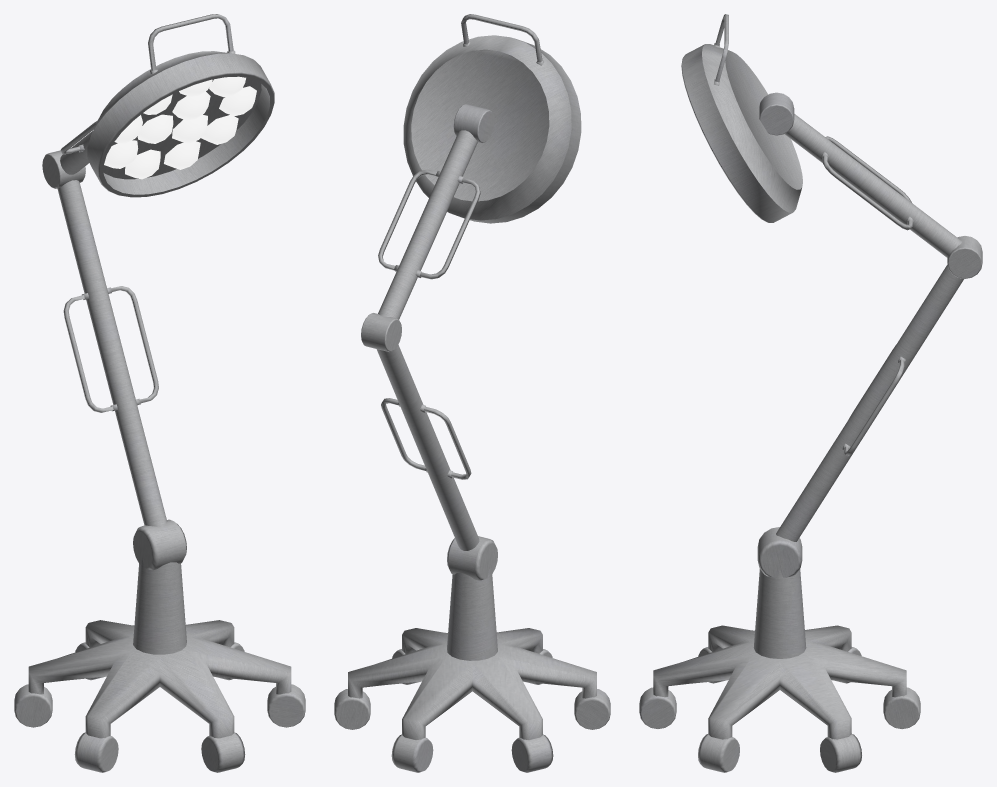
The model's file is EmissivePart.glb.
The picture shows the model from 3 angles, left to right: view 1: azimuth 30°, elevation 25°; view 2: azimuth 150°, elevation 25°; view 3: azimuth 270°, elevation 25°; orthographic projection. The views are drawn at different scales.
Visible parts, largest first — view 1: EmissivePart; view 2: EmissivePart; view 3: EmissivePart.
Part boxes in pixels (x1,y1,x2,y2): EmissivePart: [14, 14, 305, 772]; EmissivePart: [334, 14, 610, 772]; EmissivePart: [639, 14, 982, 772].
Bounding box in the file's own units: 1.14 × 3.44 × 1.54.
2 materials, 1 textured.
